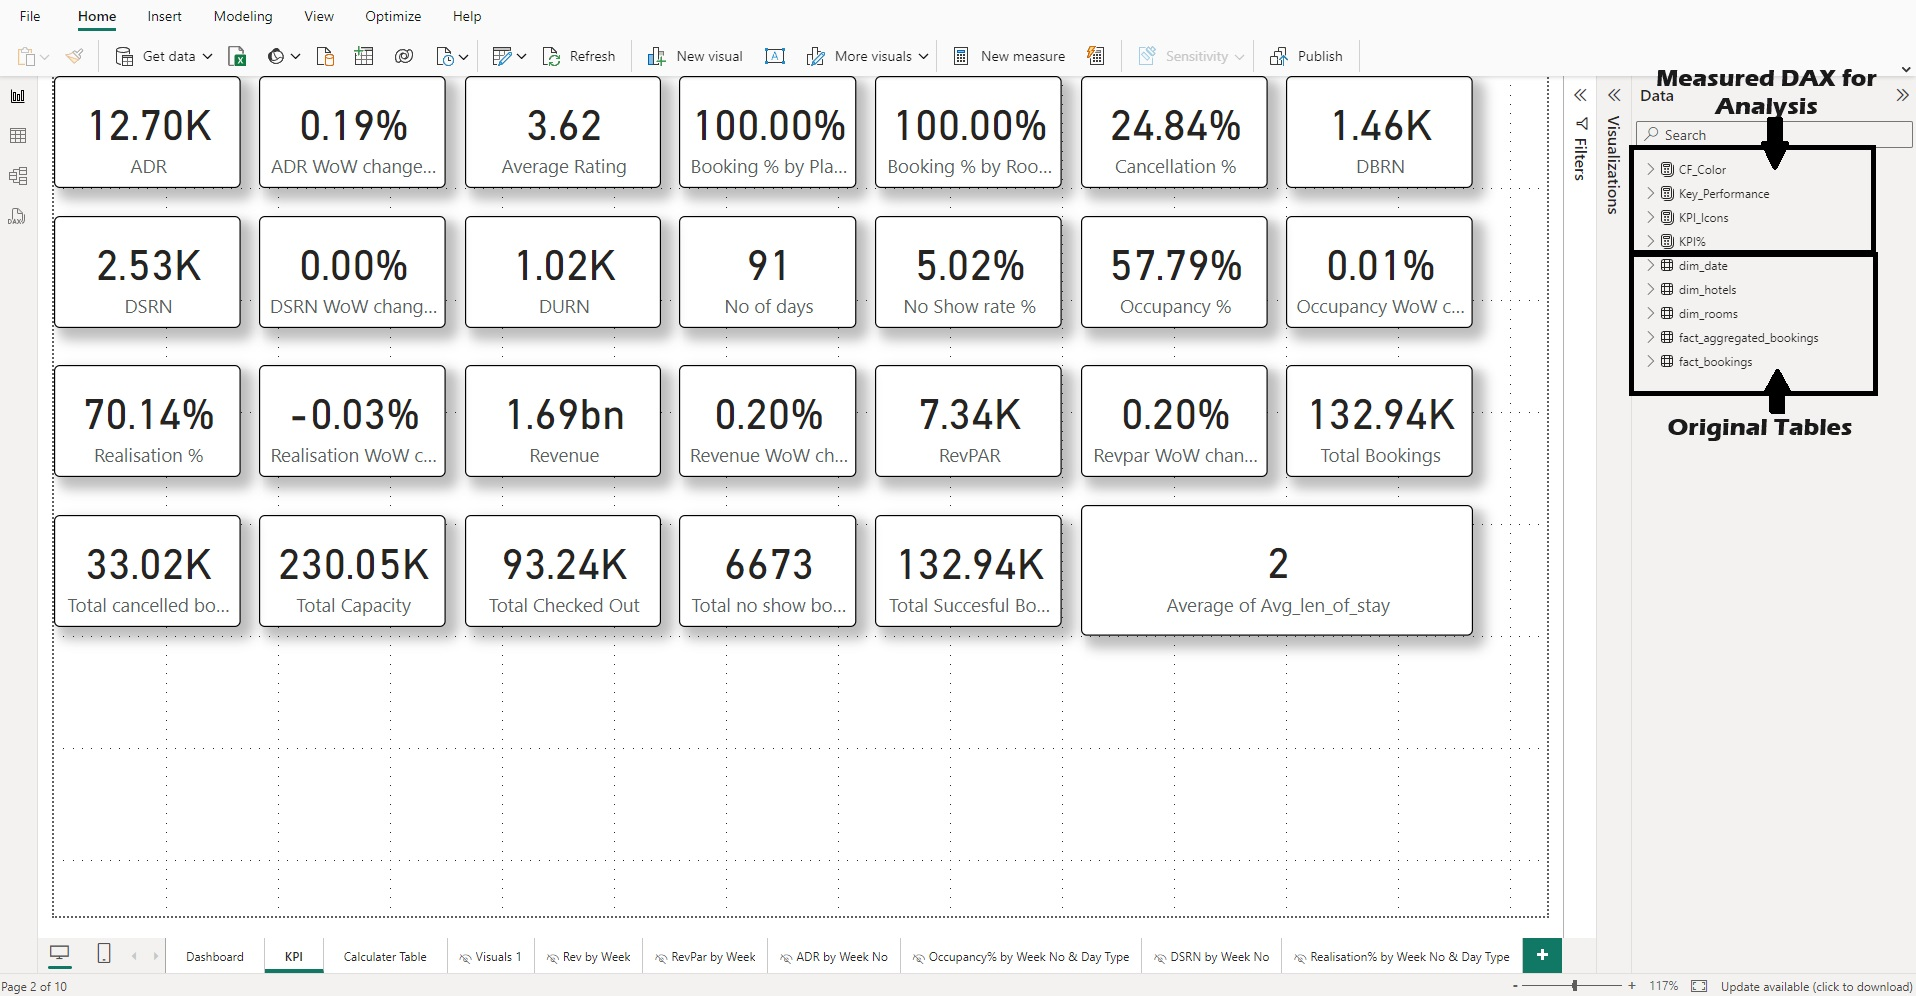

Layout of this report page (visuals, bound fields, positions):
{"tool":"powerbi","page":{"name":"KPI","canvas":[1280,720],"ordinal":1},"visuals":[{"type":"card","fields":{"Values":["Key_Performance.Revenue"]},"box":[352,248,168,96],"z":0},{"type":"card","fields":{"Values":["Key_Performance.Total Bookings"]},"box":[1056,248,160,96],"z":1000},{"type":"card","fields":{"Values":["Key_Performance.Total Capacity"]},"box":[176,376,160,96],"z":2000},{"type":"card","fields":{"Values":["Key_Performance.Total Succesful Bookings"]},"box":[704,376,160,96],"z":3000},{"type":"card","fields":{"Values":["Key_Performance.Occupancy WoW change %"]},"box":[1056,120,160,96],"z":4000},{"type":"card","fields":{"Values":["Key_Performance.Average Rating"]},"box":[352,0,168,96],"z":5000},{"type":"card","fields":{"Values":["Key_Performance.No of days"]},"box":[536,120,152,96],"z":6000},{"type":"card","fields":{"Values":["Key_Performance.Total cancelled bookings"]},"box":[0,376,160,96],"z":7000},{"type":"card","fields":{"Values":["Key_Performance.Cancellation %"]},"box":[880,0,160,96],"z":8000},{"type":"card","fields":{"Values":["Key_Performance.Total Checked Out"]},"box":[352,376,168,96],"z":9000},{"type":"card","fields":{"Values":["Key_Performance.Total no show bookings"]},"box":[536,376,152,96],"z":10000},{"type":"card","fields":{"Values":["Key_Performance.No Show rate %"]},"box":[704,120,160,96],"z":11000},{"type":"card","fields":{"Values":["Key_Performance.Booking % by Platform"]},"box":[536,0,152,96],"z":12000},{"type":"card","fields":{"Values":["Key_Performance.Booking % by Room class"]},"box":[704,0,160,96],"z":13000},{"type":"card","fields":{"Values":["Key_Performance.ADR"]},"box":[0,0,160,96],"z":14000},{"type":"card","fields":{"Values":["Key_Performance.Realisation %"]},"box":[0,248,160,96],"z":15000},{"type":"card","fields":{"Values":["Key_Performance.RevPAR"]},"box":[704,248,160,96],"z":16000},{"type":"card","fields":{"Values":["Key_Performance.DBRN"]},"box":[1056,0,160,96],"z":17000},{"type":"card","fields":{"Values":["Key_Performance.DSRN"]},"box":[0,120,160,96],"z":18000},{"type":"card","fields":{"Values":["Key_Performance.DURN"]},"box":[352,120,168,96],"z":19000},{"type":"card","fields":{"Values":["Key_Performance.Revenue WoW change %"]},"box":[536,248,152,96],"z":20000},{"type":"card","fields":{"Values":["Key_Performance.Occupancy %"]},"box":[880,120,160,96],"z":21000},{"type":"card","fields":{"Values":["Key_Performance.ADR WoW change %"]},"box":[176,0,160,96],"z":22000},{"type":"card","fields":{"Values":["Key_Performance.Revpar WoW change %"]},"box":[880,248,160,96],"z":23000},{"type":"card","fields":{"Values":["Key_Performance.Realisation WoW change %"]},"box":[176,248,160,96],"z":24000},{"type":"card","fields":{"Values":["Key_Performance.DSRN WoW change %"]},"box":[176,120,160,96],"z":25000},{"type":"card","fields":{"Values":["Avg(fact_bookings.Avg_len_of_stay)"]},"box":[880,368,336,112],"z":26000}]}

Visuals, with their boxes on the page's 1280x720 design canvas (x1, y1, x2, y2). These are canvas units, not pixel positions in the 1916x996 screenshot, which may show the page scaled, cropped or inside an application window:
card - Key_Performance.Revenue: [x1=352, y1=248, x2=520, y2=344]
card - Key_Performance.Total Bookings: [x1=1056, y1=248, x2=1216, y2=344]
card - Key_Performance.Total Capacity: [x1=176, y1=376, x2=336, y2=472]
card - Key_Performance.Total Succesful Bookings: [x1=704, y1=376, x2=864, y2=472]
card - Key_Performance.Occupancy WoW change %: [x1=1056, y1=120, x2=1216, y2=216]
card - Key_Performance.Average Rating: [x1=352, y1=0, x2=520, y2=96]
card - Key_Performance.No of days: [x1=536, y1=120, x2=688, y2=216]
card - Key_Performance.Total cancelled bookings: [x1=0, y1=376, x2=160, y2=472]
card - Key_Performance.Cancellation %: [x1=880, y1=0, x2=1040, y2=96]
card - Key_Performance.Total Checked Out: [x1=352, y1=376, x2=520, y2=472]
card - Key_Performance.Total no show bookings: [x1=536, y1=376, x2=688, y2=472]
card - Key_Performance.No Show rate %: [x1=704, y1=120, x2=864, y2=216]
card - Key_Performance.Booking % by Platform: [x1=536, y1=0, x2=688, y2=96]
card - Key_Performance.Booking % by Room class: [x1=704, y1=0, x2=864, y2=96]
card - Key_Performance.ADR: [x1=0, y1=0, x2=160, y2=96]
card - Key_Performance.Realisation %: [x1=0, y1=248, x2=160, y2=344]
card - Key_Performance.RevPAR: [x1=704, y1=248, x2=864, y2=344]
card - Key_Performance.DBRN: [x1=1056, y1=0, x2=1216, y2=96]
card - Key_Performance.DSRN: [x1=0, y1=120, x2=160, y2=216]
card - Key_Performance.DURN: [x1=352, y1=120, x2=520, y2=216]
card - Key_Performance.Revenue WoW change %: [x1=536, y1=248, x2=688, y2=344]
card - Key_Performance.Occupancy %: [x1=880, y1=120, x2=1040, y2=216]
card - Key_Performance.ADR WoW change %: [x1=176, y1=0, x2=336, y2=96]
card - Key_Performance.Revpar WoW change %: [x1=880, y1=248, x2=1040, y2=344]
card - Key_Performance.Realisation WoW change %: [x1=176, y1=248, x2=336, y2=344]
card - Key_Performance.DSRN WoW change %: [x1=176, y1=120, x2=336, y2=216]
card - Avg(fact_bookings.Avg_len_of_stay): [x1=880, y1=368, x2=1216, y2=480]
